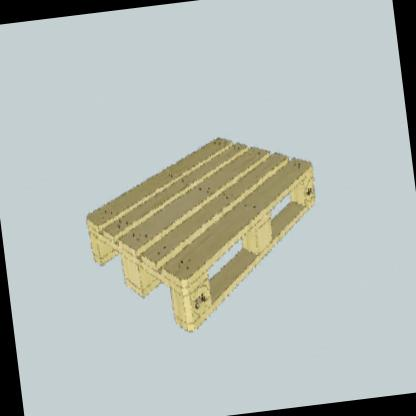BoxFace: (81, 129, 319, 341)
